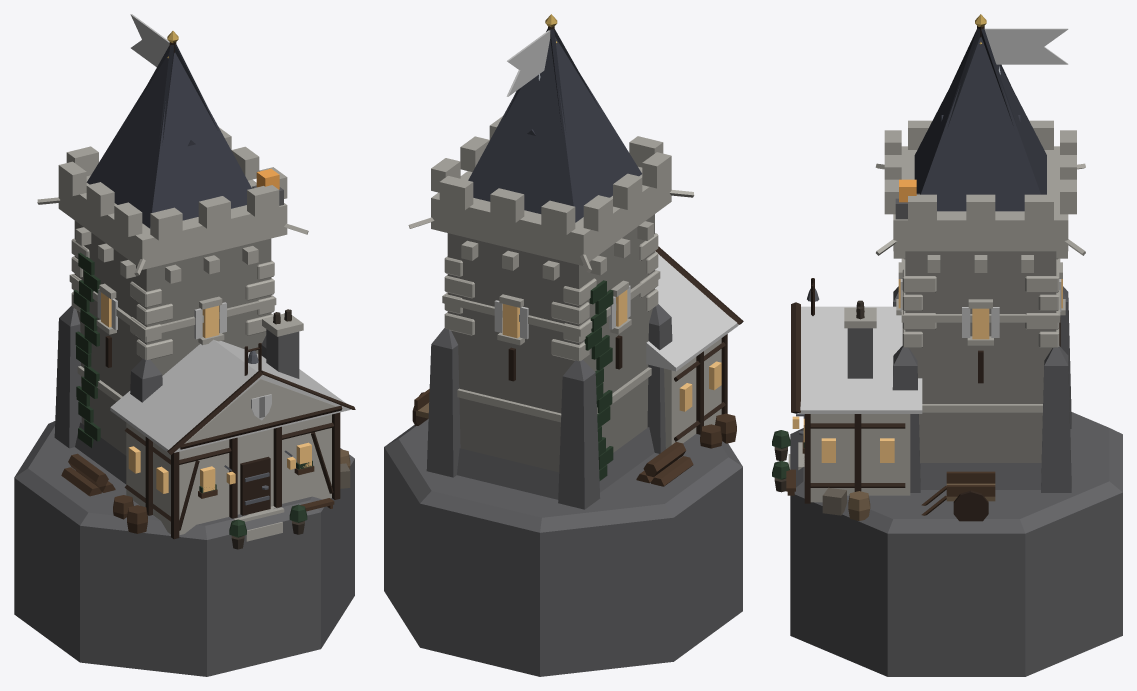
The model's file is keep.glb.
3 views of the same model, side by side, from view 1: azimuth 30°, elevation 25°; view 2: azimuth 150°, elevation 25°; view 3: azimuth 270°, elevation 25° (orthographic). The views are drawn at different scales.
Parts seen in each view (by area): view 1: tower, keep close!fine, hall, roof@blackwood, hall roof, keep leaves!fine, stores, keep shutters!fine, roof close@blackwood!fine, pennant, hall lights, tower windows (+1 smaller); view 2: tower, roof@blackwood, keep close!fine, hall roof, hall, keep leaves!fine, pennant, stores, tower windows, roof close@blackwood!fine, keep shutters!fine, keep lights!fine; view 3: tower, roof@blackwood, keep close!fine, hall roof, hall, pennant, roof close@blackwood!fine, stores, keep lights!fine, tower windows, keep shutters!fine, beacon@strandfolk (+1 smaller).
Part boxes in pixels (bbox=[...]): tower: bbox=[14, 127, 354, 676]; keep close!fine: bbox=[37, 197, 355, 549]; hall: bbox=[126, 329, 340, 541]; roof@blackwood: bbox=[86, 52, 251, 228]; hall roof: bbox=[110, 339, 350, 453]; keep leaves!fine: bbox=[73, 252, 312, 537]; stores: bbox=[113, 449, 350, 533]; keep shutters!fine: bbox=[97, 289, 271, 420]; roof close@blackwood!fine: bbox=[128, 31, 216, 142]; pennant: bbox=[130, 14, 169, 67]; hall lights: bbox=[200, 442, 311, 492]; tower windows: bbox=[101, 292, 219, 338]; tower: bbox=[384, 116, 742, 676]; roof@blackwood: bbox=[468, 37, 641, 222]; keep close!fine: bbox=[408, 190, 743, 499]; hall roof: bbox=[646, 254, 738, 371]; hall: bbox=[664, 334, 727, 448]; keep leaves!fine: bbox=[584, 280, 613, 480]; pennant: bbox=[506, 30, 550, 96]; stores: bbox=[700, 413, 736, 448]; tower windows: bbox=[502, 290, 627, 338]; roof close@blackwood!fine: bbox=[505, 14, 598, 134]; keep shutters!fine: bbox=[494, 285, 630, 339]; keep lights!fine: bbox=[679, 361, 721, 411]; tower: bbox=[790, 120, 1122, 676]; roof@blackwood: bbox=[914, 37, 1046, 211]; keep close!fine: bbox=[774, 163, 1085, 521]; hall roof: bbox=[798, 306, 922, 413]; hall: bbox=[788, 328, 910, 503]; pennant: bbox=[984, 28, 1068, 64]; roof close@blackwood!fine: bbox=[945, 14, 1016, 126]; stores: bbox=[822, 487, 870, 520]; keep lights!fine: bbox=[821, 438, 894, 462]; tower windows: bbox=[898, 279, 1062, 339]; keep shutters!fine: bbox=[900, 279, 1061, 337]; beacon@strandfolk: bbox=[895, 179, 919, 219].
Size of the model in its own units: 6.84 by 13.44 by 7.21.
